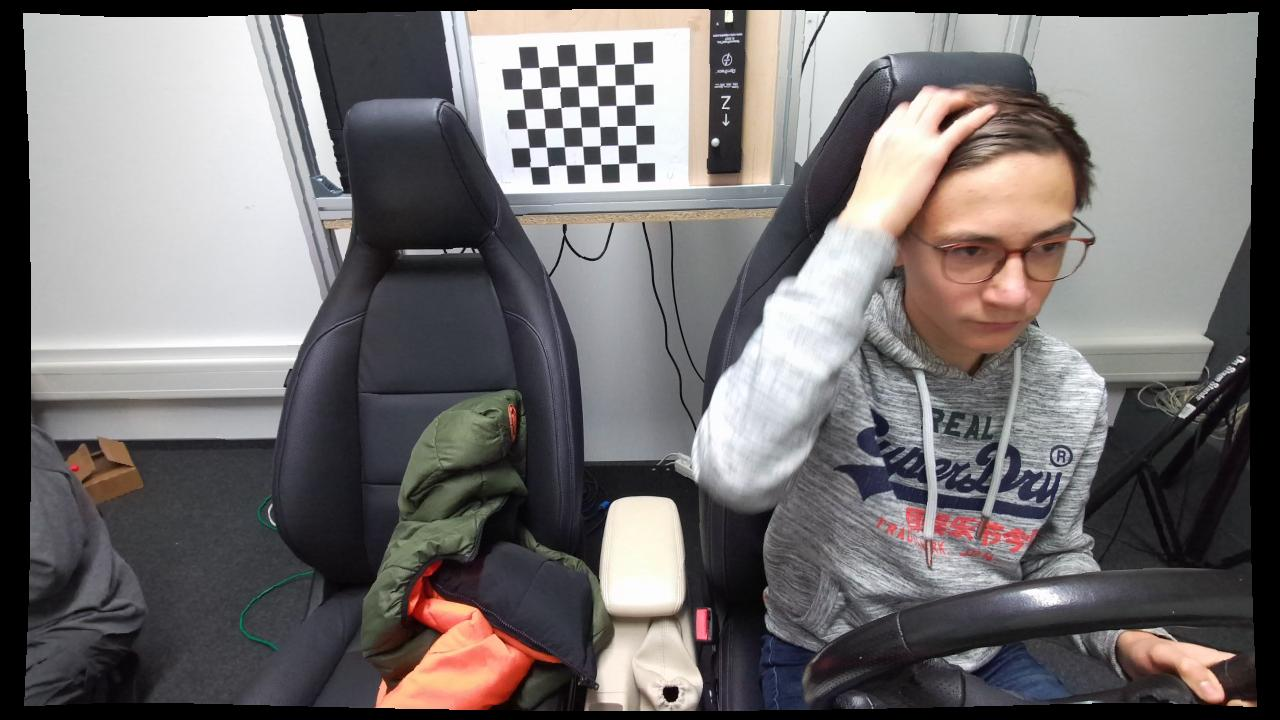Distracted: (692, 68, 1124, 712)
